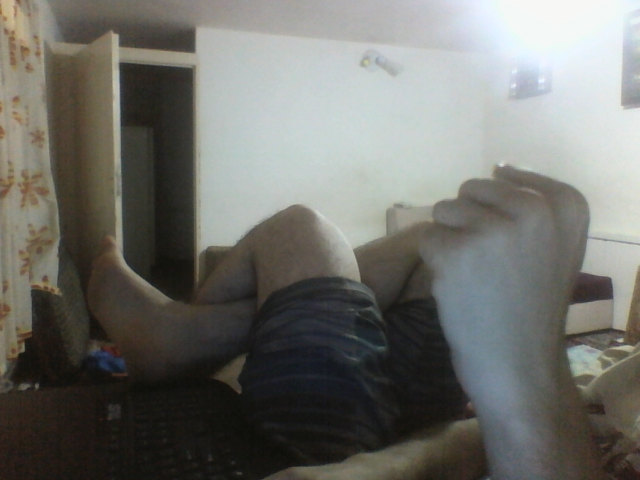attack: (412, 165, 600, 396)
